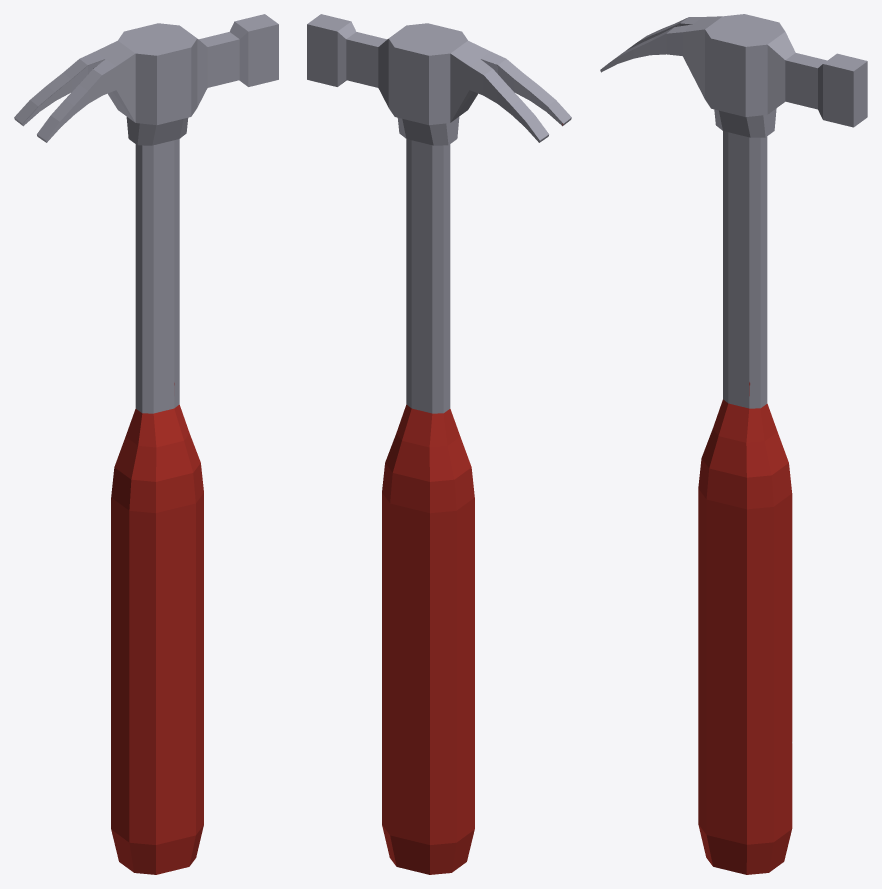
File: Hammer_v.fbx
3 views of the same model, side by side, from view 1: azimuth 30°, elevation 25°; view 2: azimuth 150°, elevation 25°; view 3: azimuth 330°, elevation 25° (orthographic).
Parts seen in each view (by area): view 1: Hammer; view 2: Hammer; view 3: Hammer.
Part boxes in pixels (bbox=[...]): Hammer: bbox=[14, 14, 278, 874]; Hammer: bbox=[307, 14, 571, 874]; Hammer: bbox=[600, 14, 867, 874].
Size of the model in its own units: 0.0445 by 0.1439 by 0.0116.
